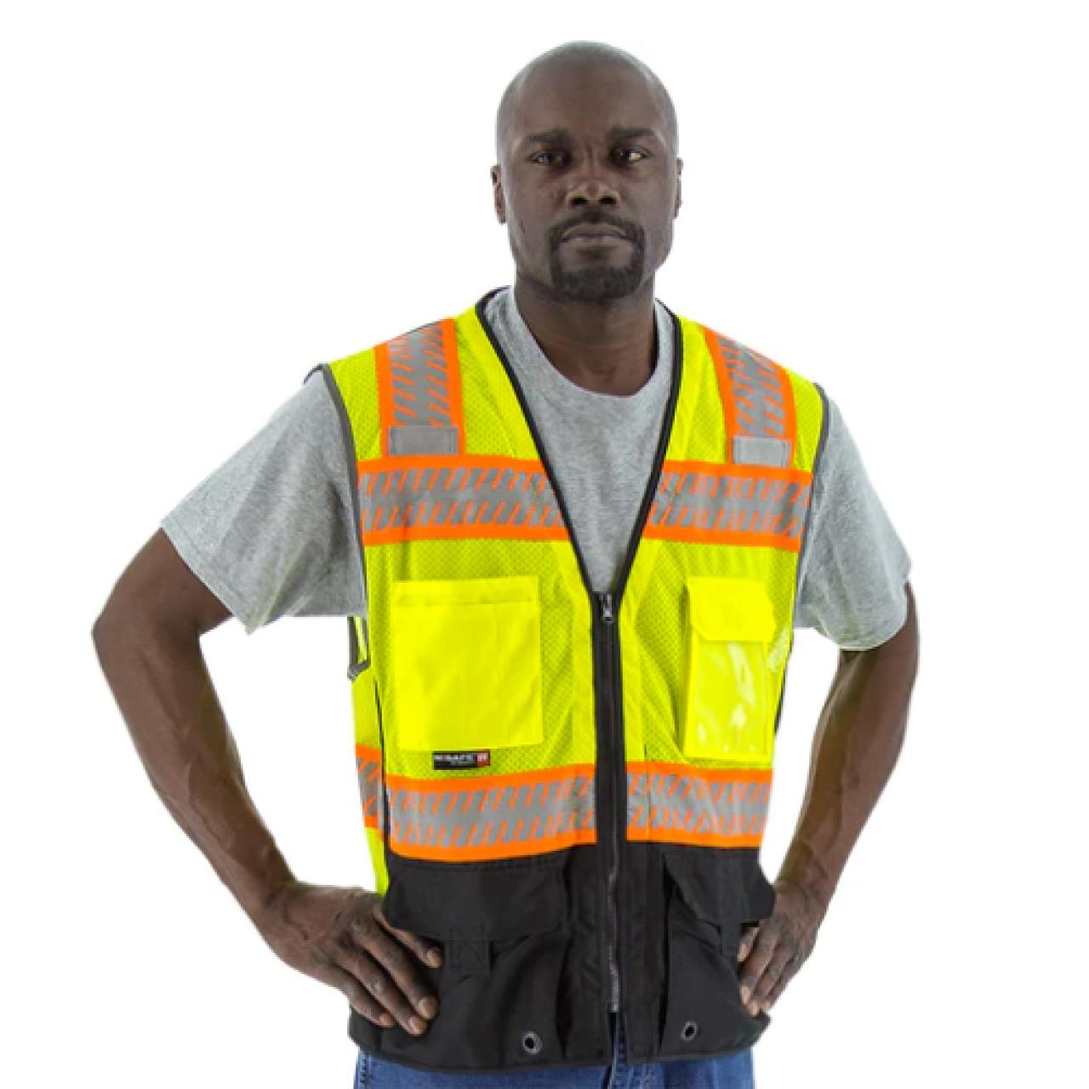Person: (74, 6, 958, 1079)
Safety_Vest: (287, 277, 848, 1089)
